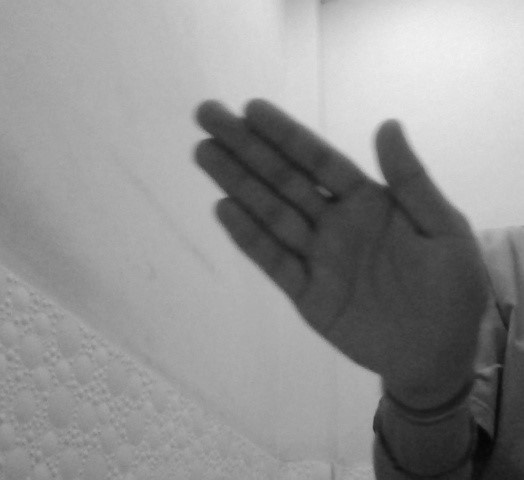Hello: (189, 93, 490, 390)
